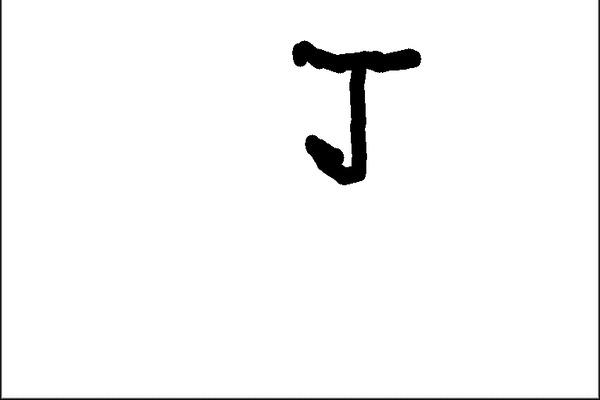J: (282, 33, 425, 190)
